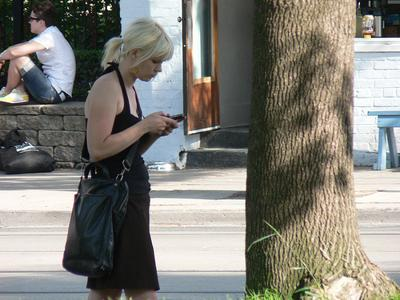person: (84, 19, 187, 300)
